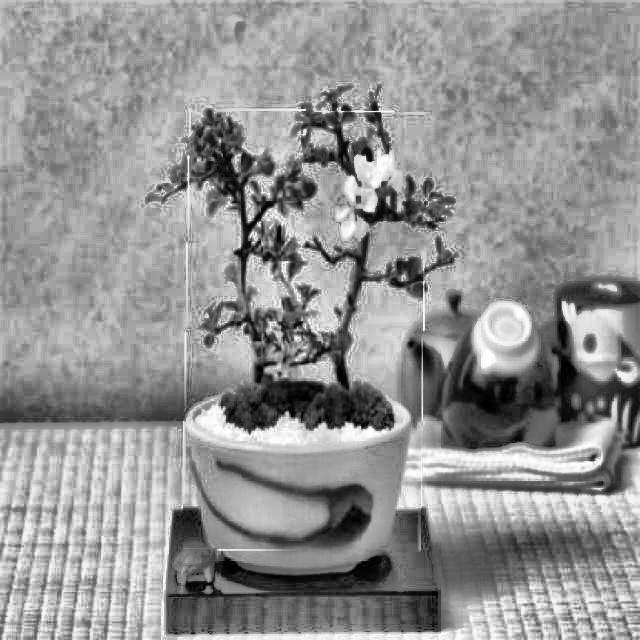plants: (186, 110, 426, 552)
